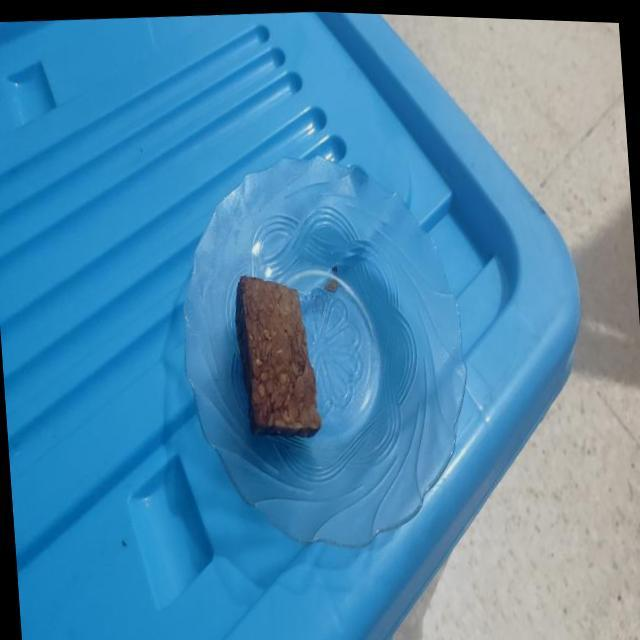tempe_goreng: (235, 276, 321, 437)
